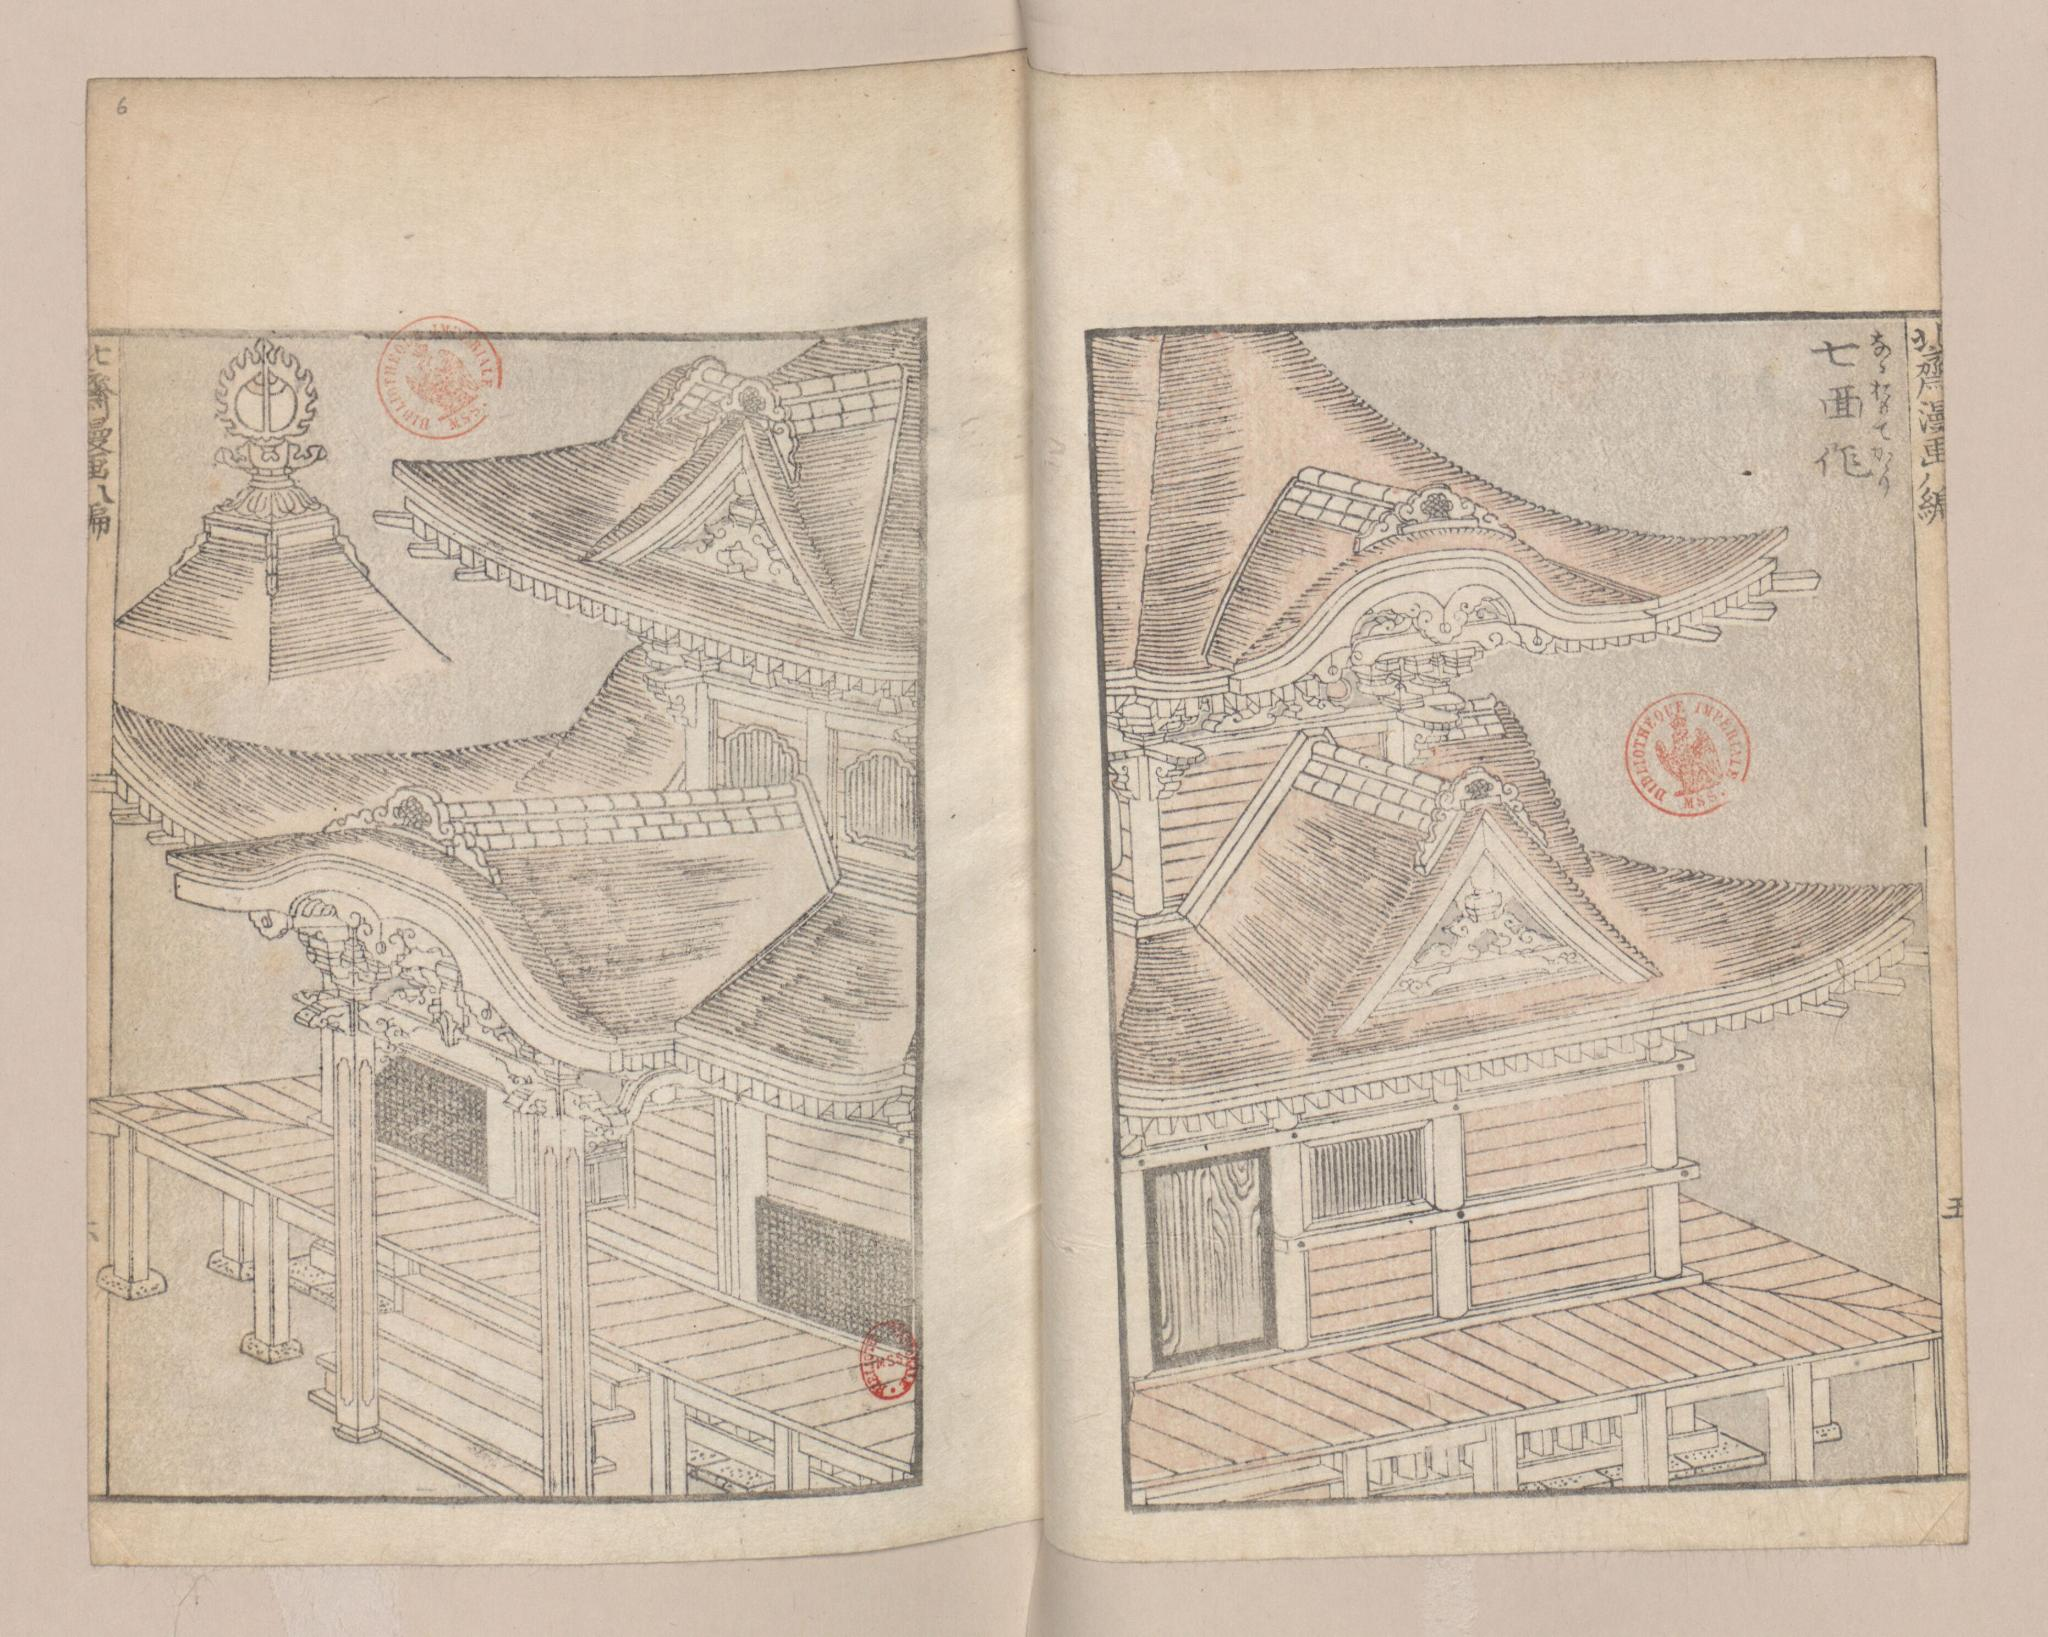MainZone-Character: (1812, 436, 1899, 496), (1811, 379, 1896, 436), (1811, 327, 1898, 374)
MainZone-Ruby: (1869, 381, 1894, 439), (1868, 326, 1891, 374), (1871, 443, 1893, 491)
